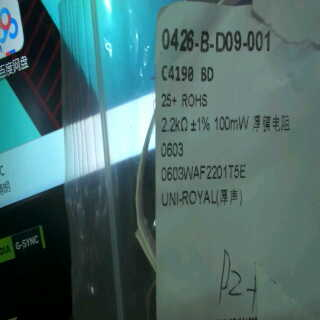2.2kR: (158, 115, 190, 137)
